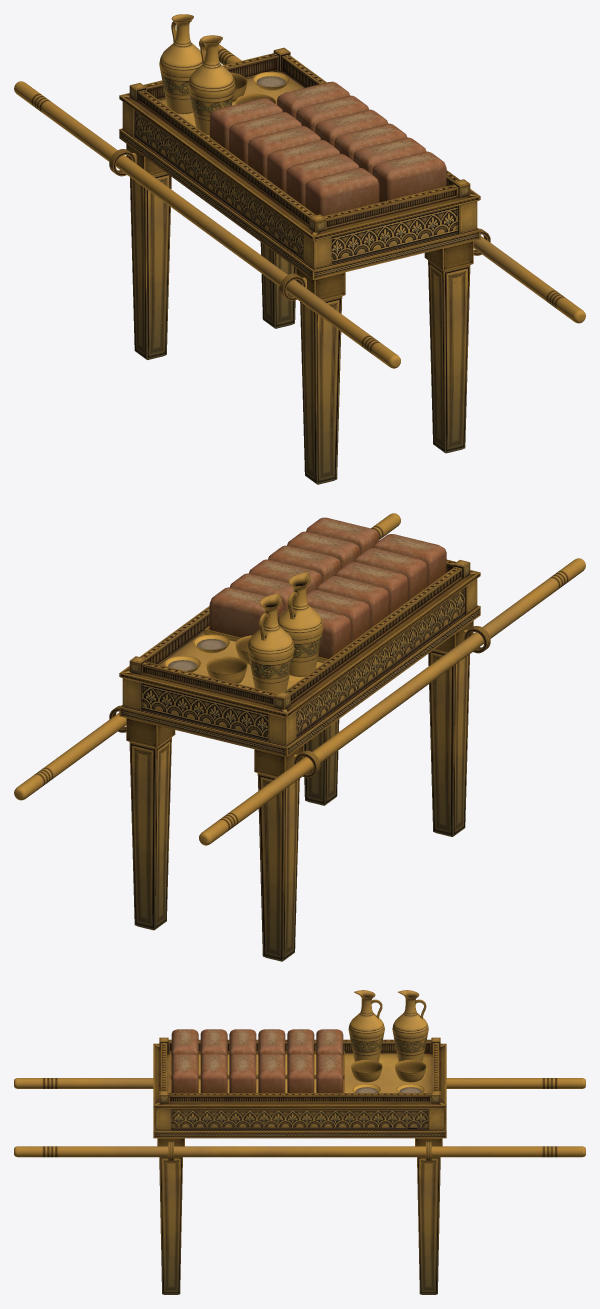
File: furn_SM_TableShowbread.glb
3 renders of one model, top to bottom at view 1: azimuth 30°, elevation 25°; view 2: azimuth 150°, elevation 25°; view 3: azimuth 270°, elevation 25°, orthographic. The views are drawn at different scales.
Parts seen in each view (by area): view 1: SM_Showbread_Structure_M_Showbread_Structure_0, SM_Showbread_Vessels_M_Showbread_Vessels_0; view 2: SM_Showbread_Structure_M_Showbread_Structure_0, SM_Showbread_Vessels_M_Showbread_Vessels_0; view 3: SM_Showbread_Structure_M_Showbread_Structure_0, SM_Showbread_Vessels_M_Showbread_Vessels_0.
Part boxes in pixels (x1,y1,x2,y2): SM_Showbread_Structure_M_Showbread_Structure_0: (14,36,585,484); SM_Showbread_Vessels_M_Showbread_Vessels_0: (159,14,446,216); SM_Showbread_Structure_M_Showbread_Structure_0: (14,513,585,961); SM_Showbread_Vessels_M_Showbread_Vessels_0: (164,517,446,693); SM_Showbread_Structure_M_Showbread_Structure_0: (14,1037,585,1294); SM_Showbread_Vessels_M_Showbread_Vessels_0: (169,990,428,1092).
Size of the model in its own units: 0.5575 by 0.8818 by 1.76.
Materials: 2 (2 with a texture image).
